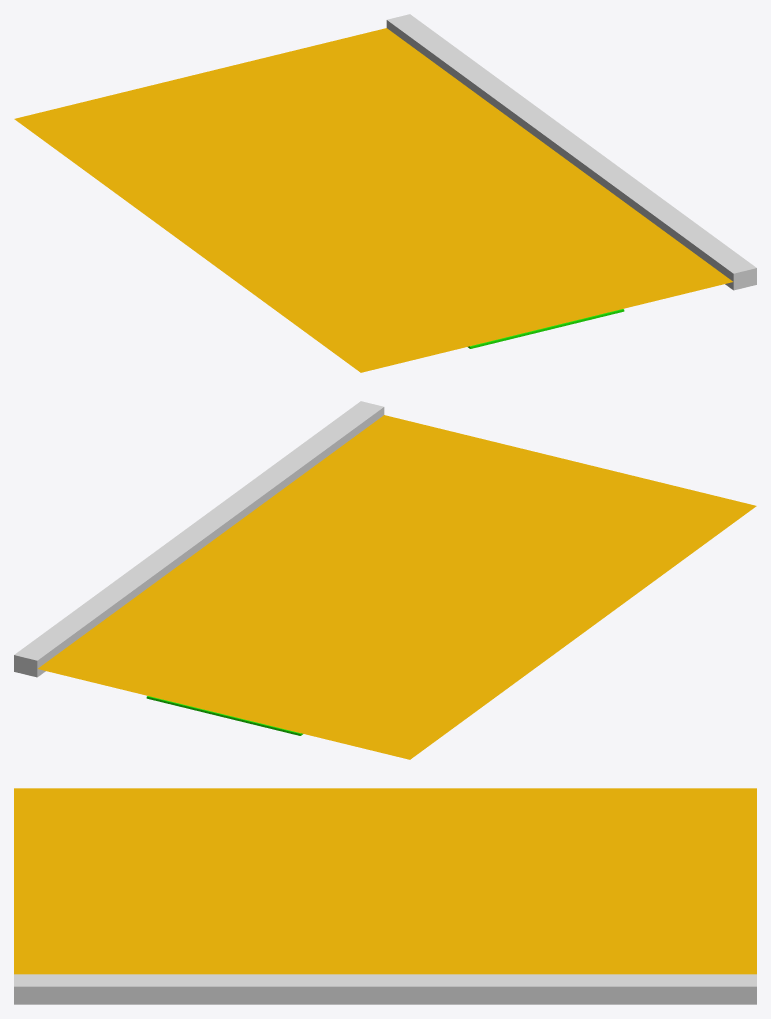
The model's file is sxq.FBX.
The picture shows the model from 3 angles, top to bottom: view 1: azimuth 30°, elevation 25°; view 2: azimuth 150°, elevation 25°; view 3: azimuth 270°, elevation 25°; orthographic projection. The views are drawn at different scales.
Parts seen in each view (by area): view 1: Plane002, Box002; view 2: Plane002, Box002; view 3: Plane002, Box002.
Part boxes in pixels (box(x1,y1,x2,y2)): Plane002: box(14, 28, 732, 372); Box002: box(386, 14, 756, 290); Plane002: box(38, 415, 756, 759); Box002: box(14, 401, 384, 677); Plane002: box(14, 788, 756, 974); Box002: box(14, 974, 756, 1004).
Size of what is drawn, in the model's own units: 1.8 by 0.0728 by 2.73.
